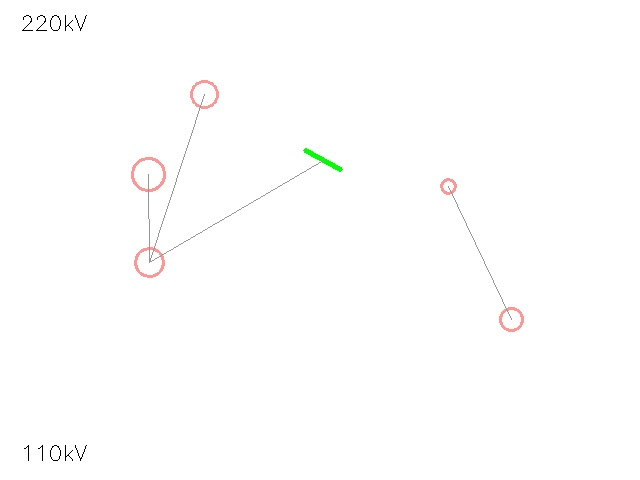busbar: (298, 135, 348, 185)
current_transformer: (116, 142, 180, 206), (433, 171, 463, 201)
reactor: (121, 234, 177, 290), (178, 68, 230, 120), (489, 297, 533, 341)
